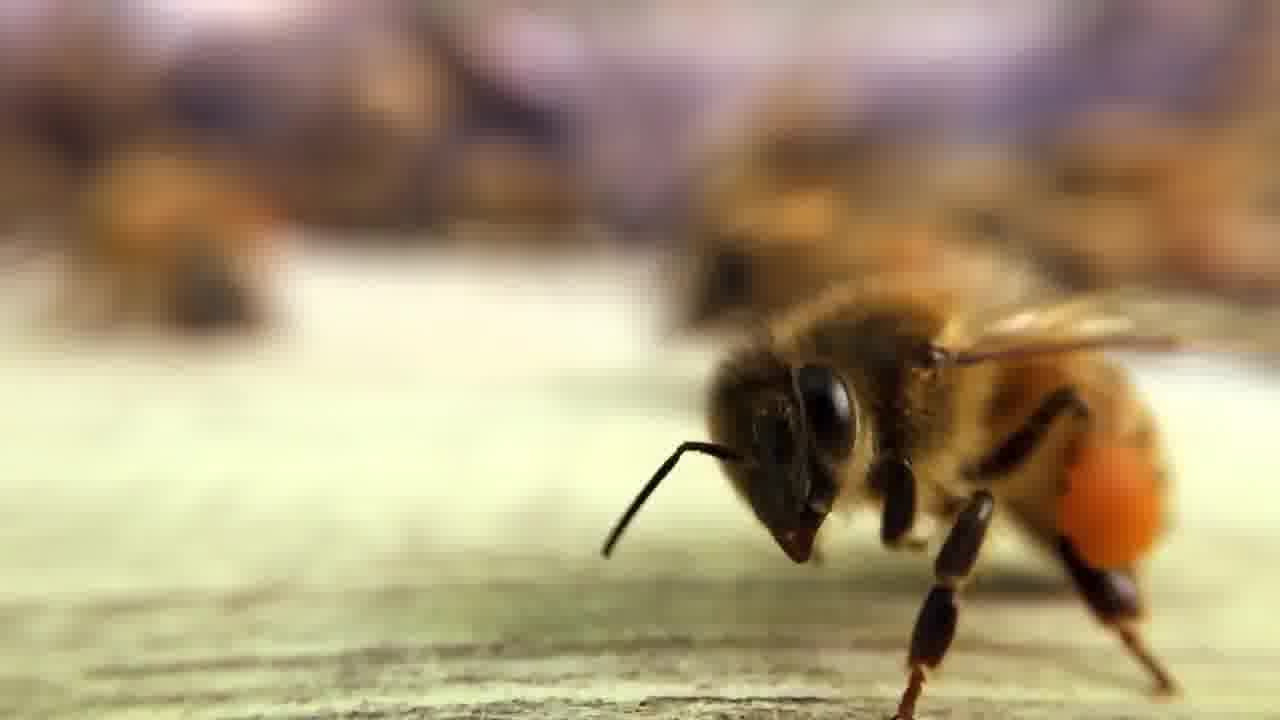pollen: (634, 246, 1236, 689)
